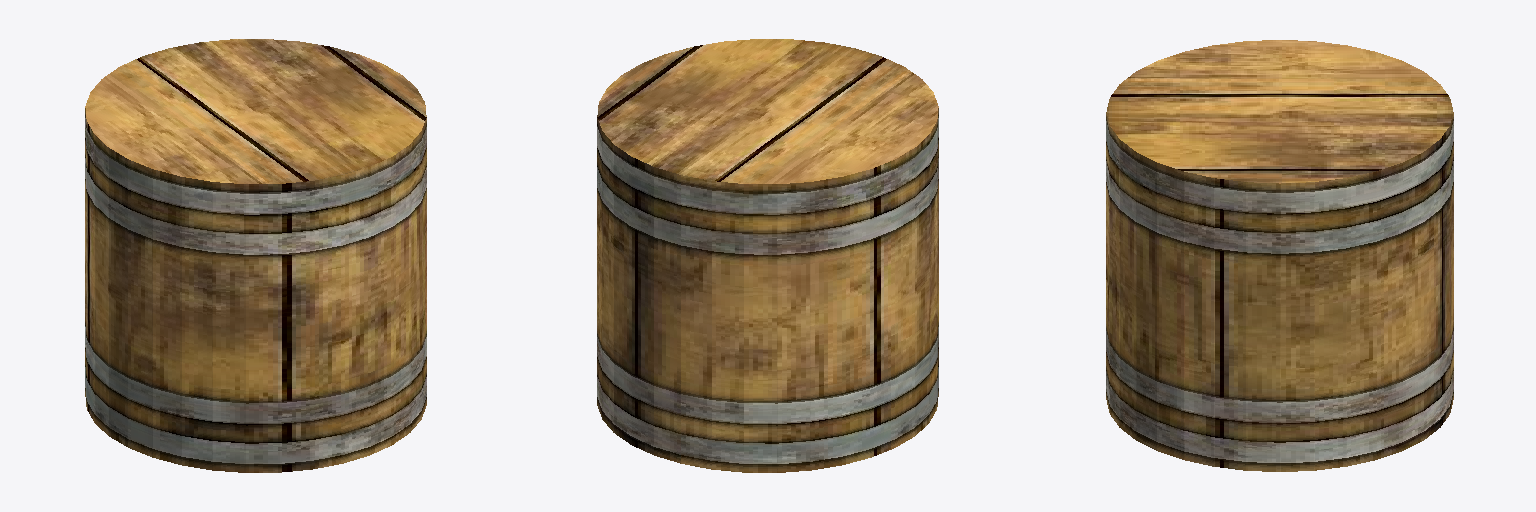
The picture shows the model from 3 angles: view 1: azimuth 30°, elevation 25°; view 2: azimuth 150°, elevation 25°; view 3: azimuth 270°, elevation 25°; orthographic projection.
Parts seen in each view (by area): view 1: barril; view 2: barril; view 3: barril.
Boxes of the visible parts, x1=… form: barril: x1=85, y1=39, x2=426, y2=472; barril: x1=597, y1=39, x2=938, y2=472; barril: x1=1106, y1=40, x2=1453, y2=471.
Size of the model in its own units: 1.49 by 1.4 by 1.52.
1 materials, 1 textured.